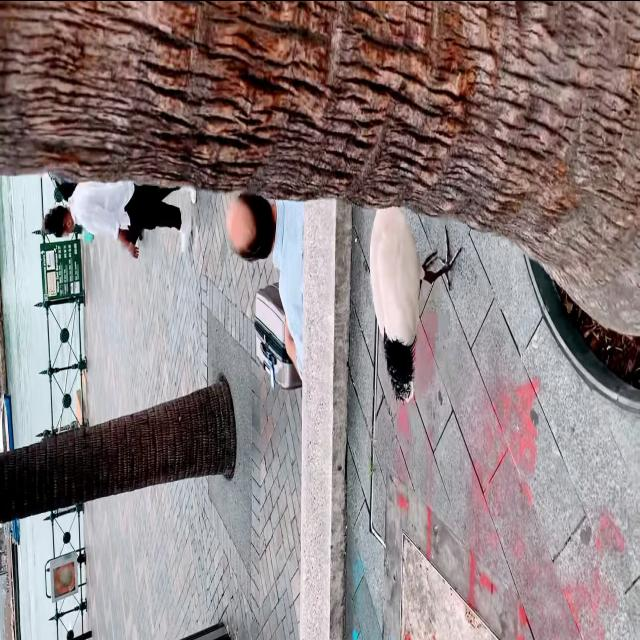Birds-Ibis: (364, 186, 468, 405)
